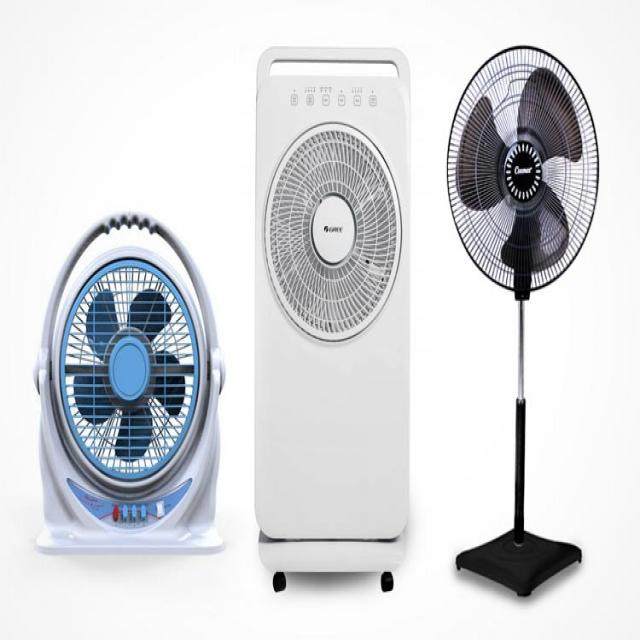fan: (34, 41, 604, 606)
